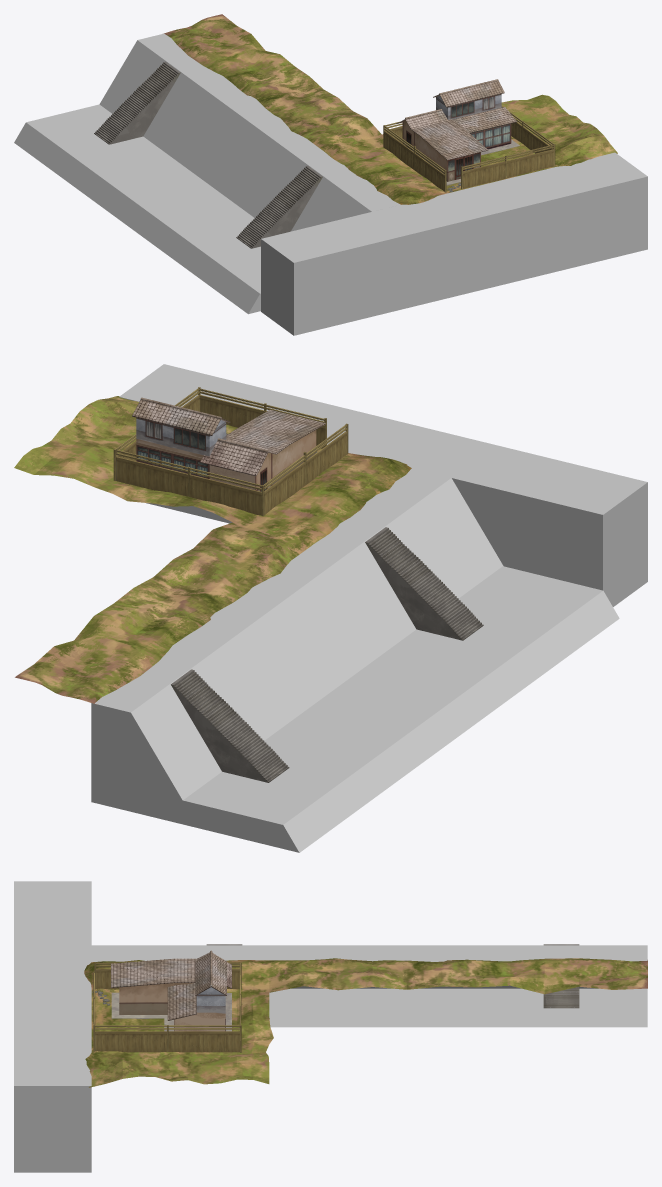
File: countryside.fbx
3 renders of one model, top to bottom at view 1: azimuth 30°, elevation 25°; view 2: azimuth 150°, elevation 25°; view 3: azimuth 270°, elevation 25°, orthographic. The views are drawn at different scales.
Parts seen in each view (by area): view 1: Cube.124, Cube.132, Cube.122, Cube.001, Cube.012, Cube.137, Cube, Cube.138, Cube.219, Cube.141, Cube.139, Cube.140 (+1 smaller); view 2: Cube.132, Cube.122, Cube.001, Cube.124, Cube.012, Cube, Cube.137, Cube.138, Cube.010, Cube.141, Cube.140, Cube.219; view 3: Cube.124, Cube.001, Cube.122, Cube.132, Cube.015, Cube.137, Cube.138, Cube.140, Cube.139, Cube.019, Cube.012, Cube.141.
Part boxes in pixels (x1,y1,x2,y2): Cube.124: [261, 152, 647, 335]; Cube.132: [99, 33, 400, 231]; Cube.122: [14, 104, 260, 314]; Cube.001: [164, 14, 617, 204]; Cube.012: [94, 61, 180, 144]; Cube.137: [402, 94, 511, 181]; Cube: [236, 166, 322, 248]; Cube.138: [396, 110, 488, 160]; Cube.219: [463, 149, 553, 188]; Cube.141: [384, 131, 444, 191]; Cube.139: [453, 107, 517, 133]; Cube.140: [433, 81, 504, 107]; Cube.132: [91, 468, 503, 800]; Cube.122: [91, 566, 619, 852]; Cube.001: [14, 396, 411, 704]; Cube.124: [119, 364, 647, 606]; Cube.012: [171, 669, 289, 782]; Cube: [365, 527, 483, 640]; Cube.137: [136, 417, 316, 491]; Cube.138: [200, 409, 325, 476]; Cube.010: [116, 456, 261, 515]; Cube.141: [264, 431, 346, 514]; Cube.140: [132, 399, 230, 435]; Cube.219: [199, 395, 325, 448]; Cube.124: [14, 881, 91, 1172]; Cube.001: [84, 958, 647, 1087]; Cube.122: [269, 988, 647, 1027]; Cube.132: [91, 945, 647, 988]; Cube.015: [95, 1031, 239, 1052]; Cube.137: [119, 983, 225, 1031]; Cube.138: [111, 952, 231, 988]; Cube.140: [195, 953, 226, 995]; Cube.139: [167, 983, 196, 1020]; Cube.019: [111, 992, 231, 1031]; Cube.012: [543, 944, 579, 1008]; Cube.141: [96, 968, 239, 989].
Size of the model in its own units: 1781 by 580 by 2239.
